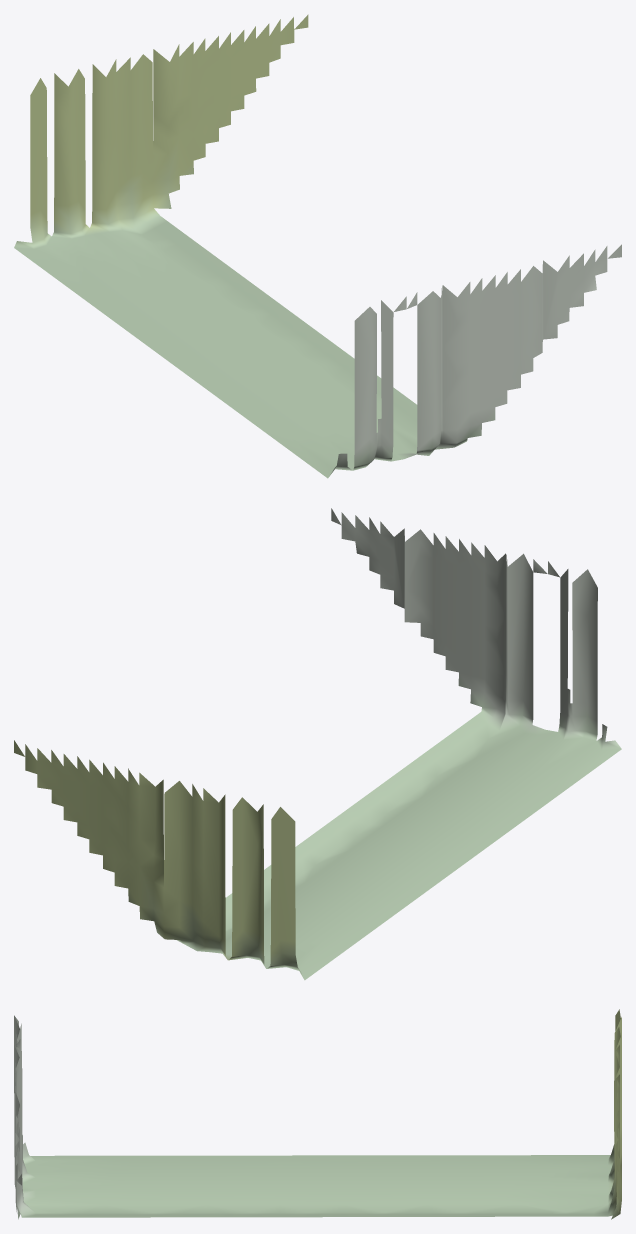
File: tile_7e4ccbd5fe0e_0_-1_-2_0_lod1.glb
3 renders of one model, top to bottom at view 1: azimuth 30°, elevation 25°; view 2: azimuth 150°, elevation 25°; view 3: azimuth 270°, elevation 25°, orthographic. The views are drawn at different scales.
Size of the model in its own units: 1.84 by 1.03 by 3.48.
